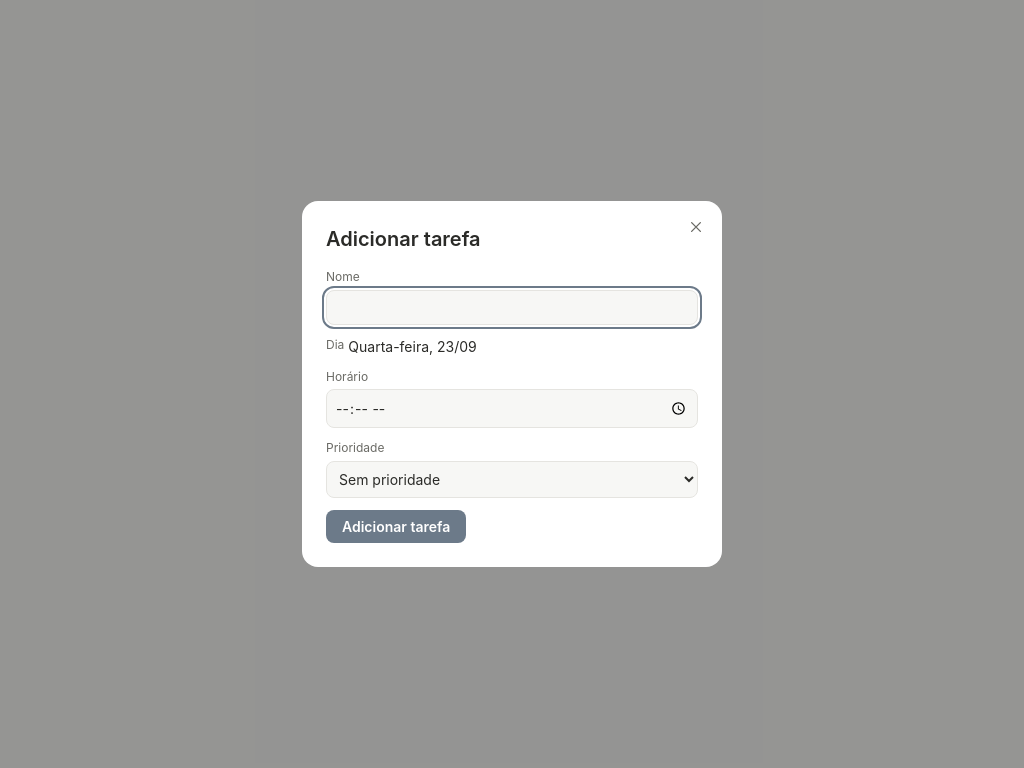
Test: TaskModal › confirma com Nome vazio: modal permanece aberto sinalizando o campo, nenhuma tarefa criada
Click the button "Adicionar tarefa". click: x=396, y=526
box: [326,510,466,543]
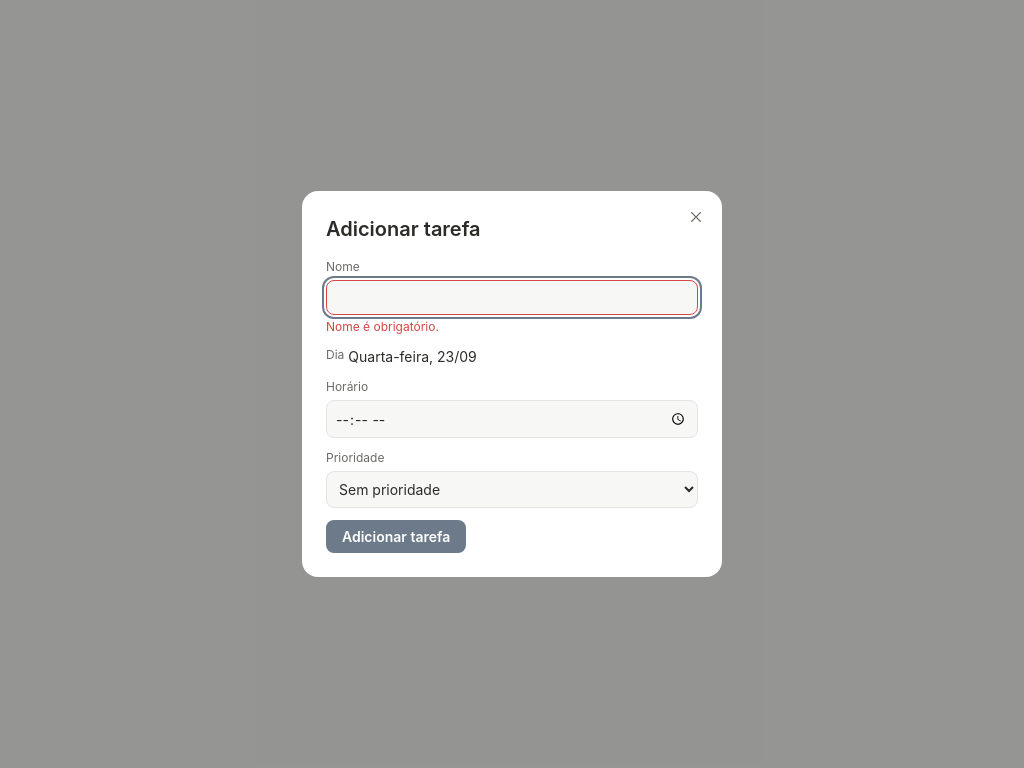
Result: the message reads "Nome é obrigatório." at [326,319,439,334]
